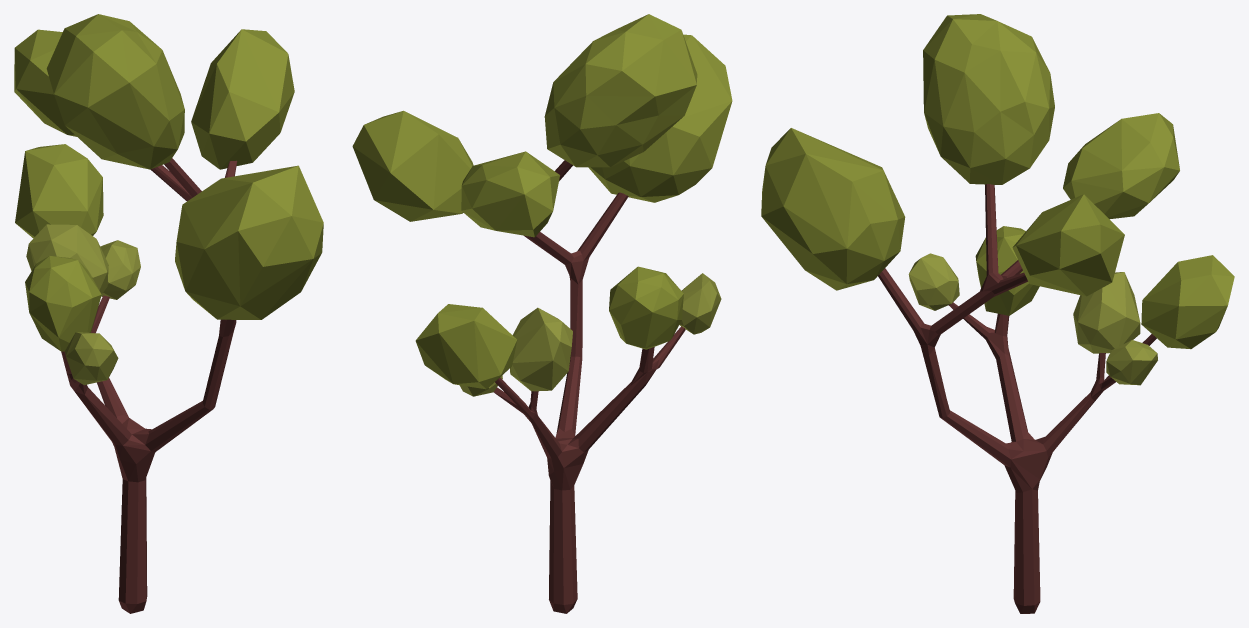
The model's file is Treepoly1.fbx.
3 renders of one model, left to right at view 1: azimuth 30°, elevation 25°; view 2: azimuth 150°, elevation 25°; view 3: azimuth 270°, elevation 25°, orthographic. The views are drawn at different scales.
Parts seen in each view (by area): view 1: Leaves.001, Trunk.001; view 2: Leaves.001, Trunk.001; view 3: Leaves.001, Trunk.001.
Part boxes in pixels (x1,y1,x2,y2): Leaves.001: [14, 14, 323, 385]; Trunk.001: [61, 158, 237, 613]; Leaves.001: [352, 14, 732, 396]; Trunk.001: [493, 160, 685, 613]; Leaves.001: [761, 14, 1234, 385]; Trunk.001: [878, 184, 1156, 613].
Bounding box in the file's own units: 509 × 1016 × 762.
